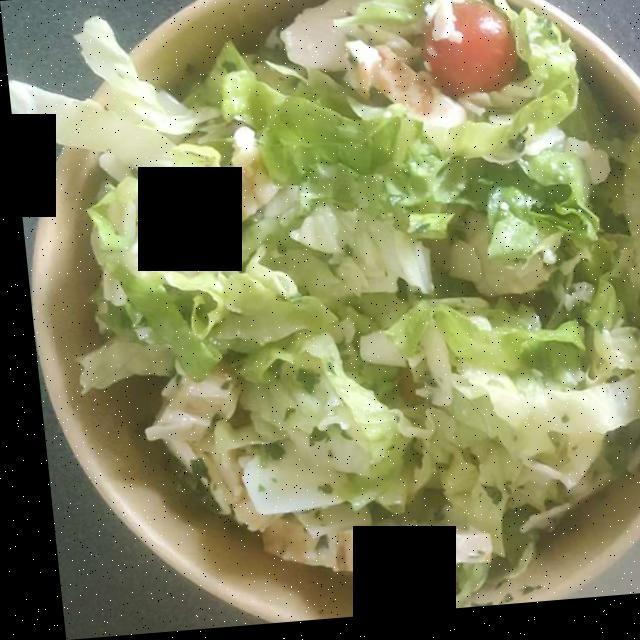salad: (61, 0, 640, 592)
tomato: (417, 3, 510, 110)
